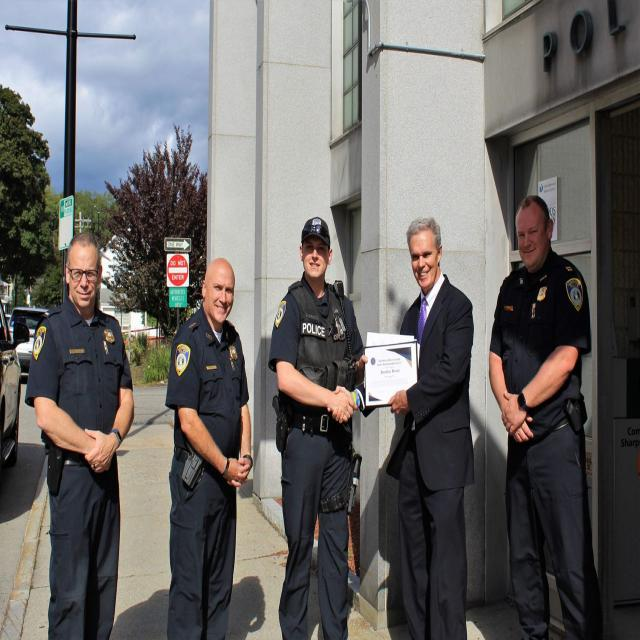police: (485, 182, 606, 620), (19, 217, 136, 640), (272, 195, 366, 640), (151, 246, 255, 640)
